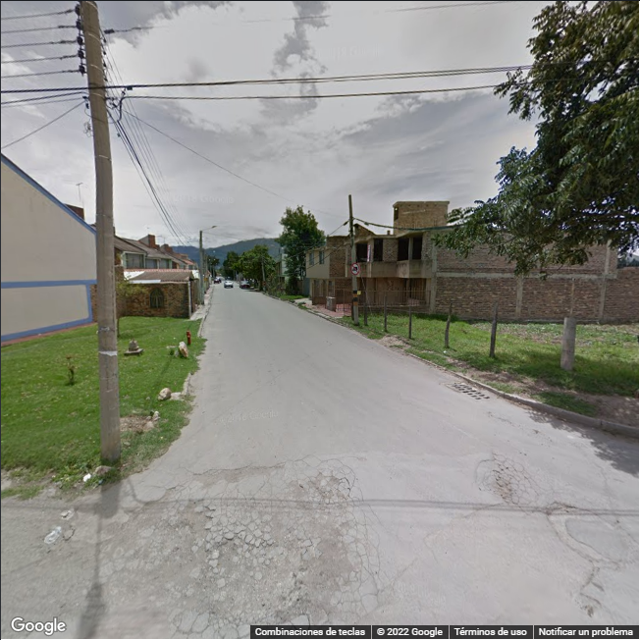D10: (595, 454, 620, 524), (383, 558, 416, 595), (570, 561, 602, 598)
D20: (138, 475, 360, 640), (484, 454, 544, 513)
